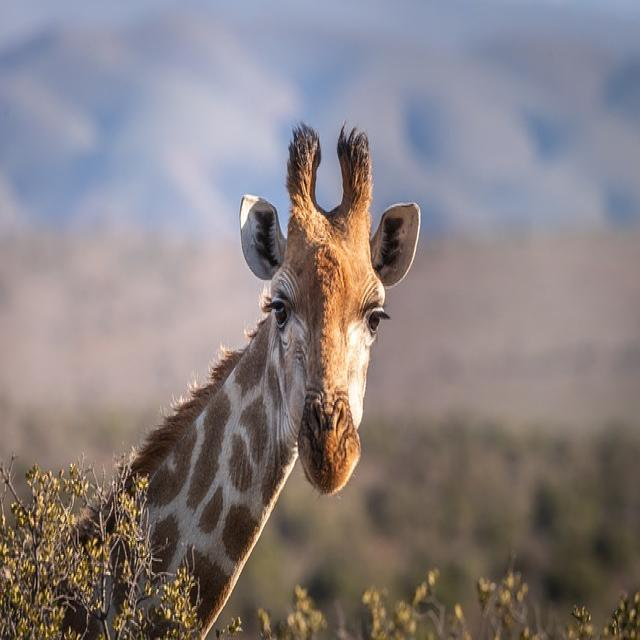Herbivorous: (128, 127, 422, 640)
